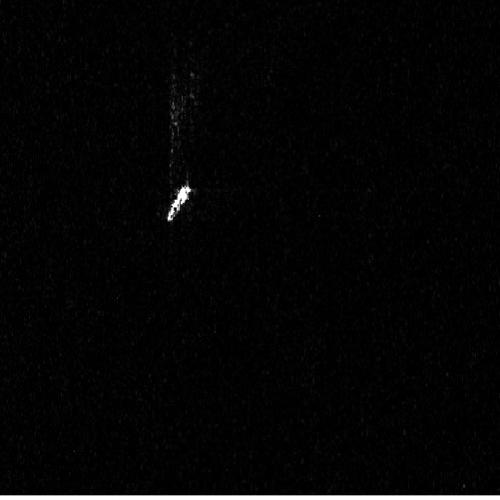ship: (167, 183, 192, 222)
